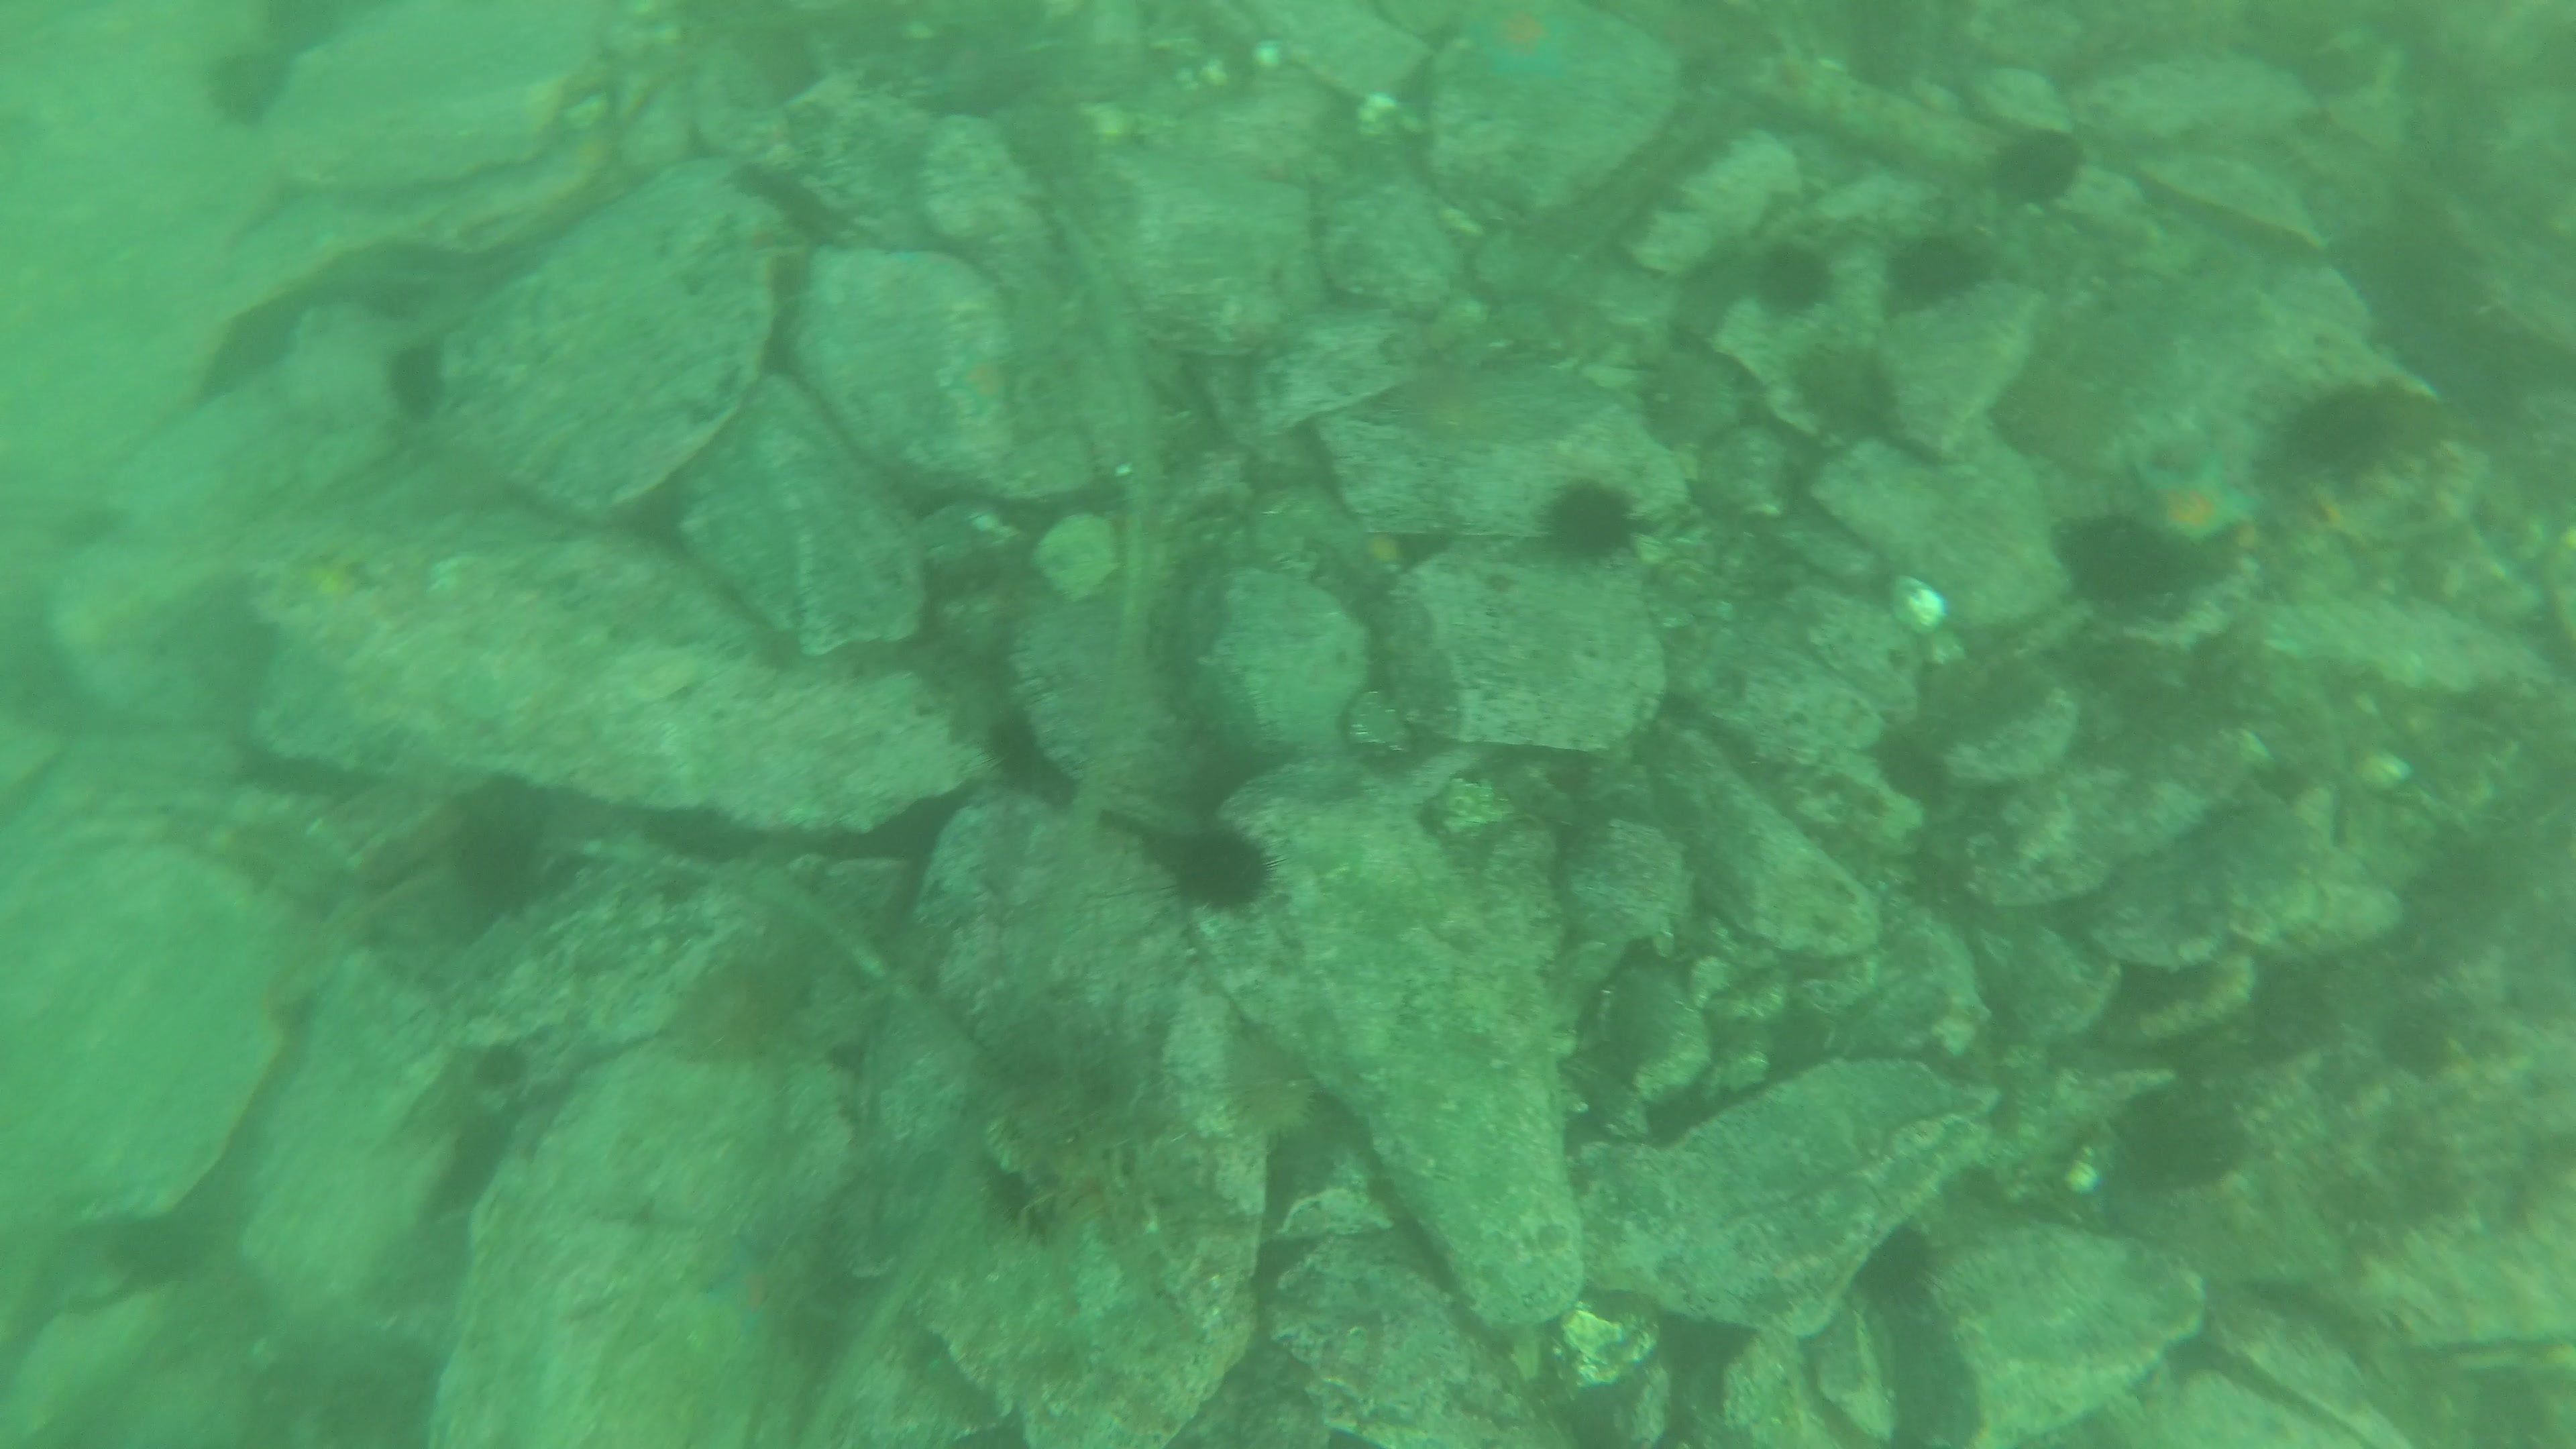echinus: (685, 962, 816, 1074), (2127, 1083, 2240, 1191), (439, 810, 561, 909), (1212, 1037, 1322, 1141), (1792, 331, 1897, 432), (1882, 219, 1987, 311), (1159, 826, 1265, 909), (2063, 508, 2155, 600), (1546, 472, 1638, 563), (1990, 126, 2089, 209), (1748, 235, 1836, 315), (253, 0, 349, 58), (211, 51, 280, 117)
starfish: (2135, 441, 2258, 550), (1461, 0, 1585, 78)
